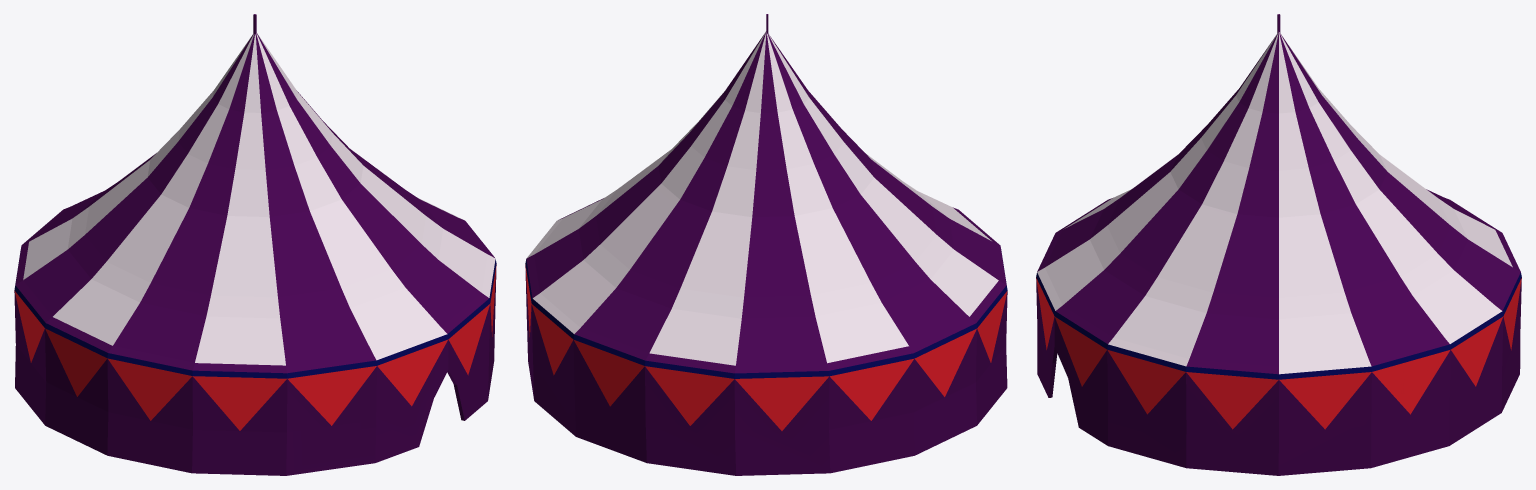
Rendered from tent_2.fbx.
3 views of the same model, side by side, from view 1: azimuth 30°, elevation 25°; view 2: azimuth 150°, elevation 25°; view 3: azimuth 270°, elevation 25° (orthographic).
Parts seen in each view (by area): view 1: Plane; view 2: Plane; view 3: Plane.
Part boxes in pixels (x1=…): Plane: x1=14, y1=14, x2=496, y2=475; Plane: x1=525, y1=14, x2=1007, y2=475; Plane: x1=1036, y1=14, x2=1521, y2=475.
Size of the model in its own units: 1606 by 1313 by 1606.
